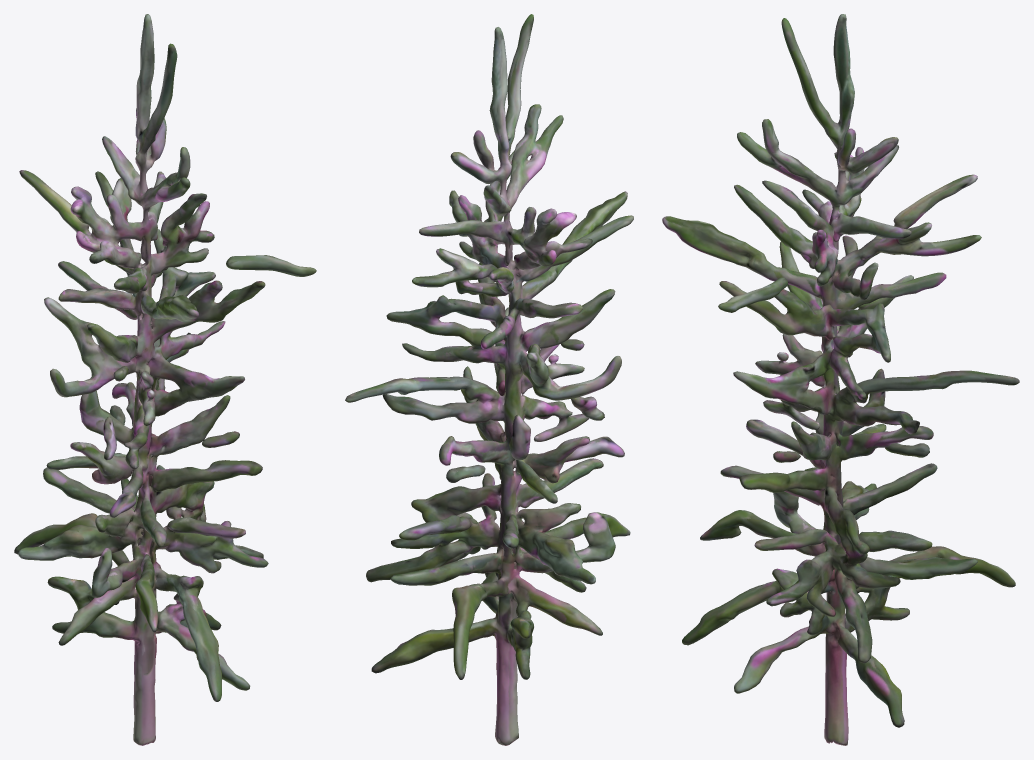
File: herb0072.gltf
3 renders of one model, left to right at view 1: azimuth 30°, elevation 25°; view 2: azimuth 150°, elevation 25°; view 3: azimuth 270°, elevation 25°, orthographic. The views are drawn at different scales.
Parts seen in each view (by area): view 1: Mesh_0.023; view 2: Mesh_0.023; view 3: Mesh_0.023.
Part boxes in pixels (bbox=[...]): Mesh_0.023: bbox=[14, 14, 316, 745]; Mesh_0.023: bbox=[345, 14, 633, 745]; Mesh_0.023: bbox=[662, 14, 1019, 745].
Bounding box in the file's own units: 0.6967 × 2.02 × 0.8934.
1 material, 1 textured.
